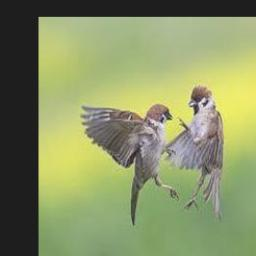Sparrow: (79, 104, 180, 225), (163, 84, 224, 221)
